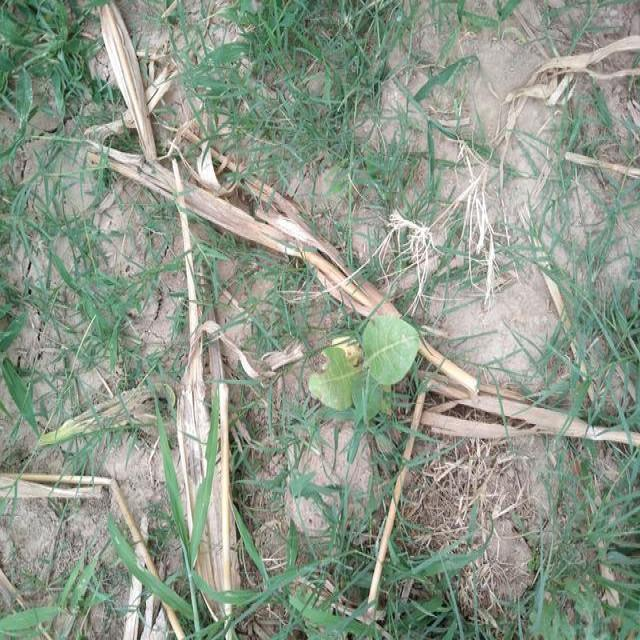crop: (310, 304, 429, 414)
